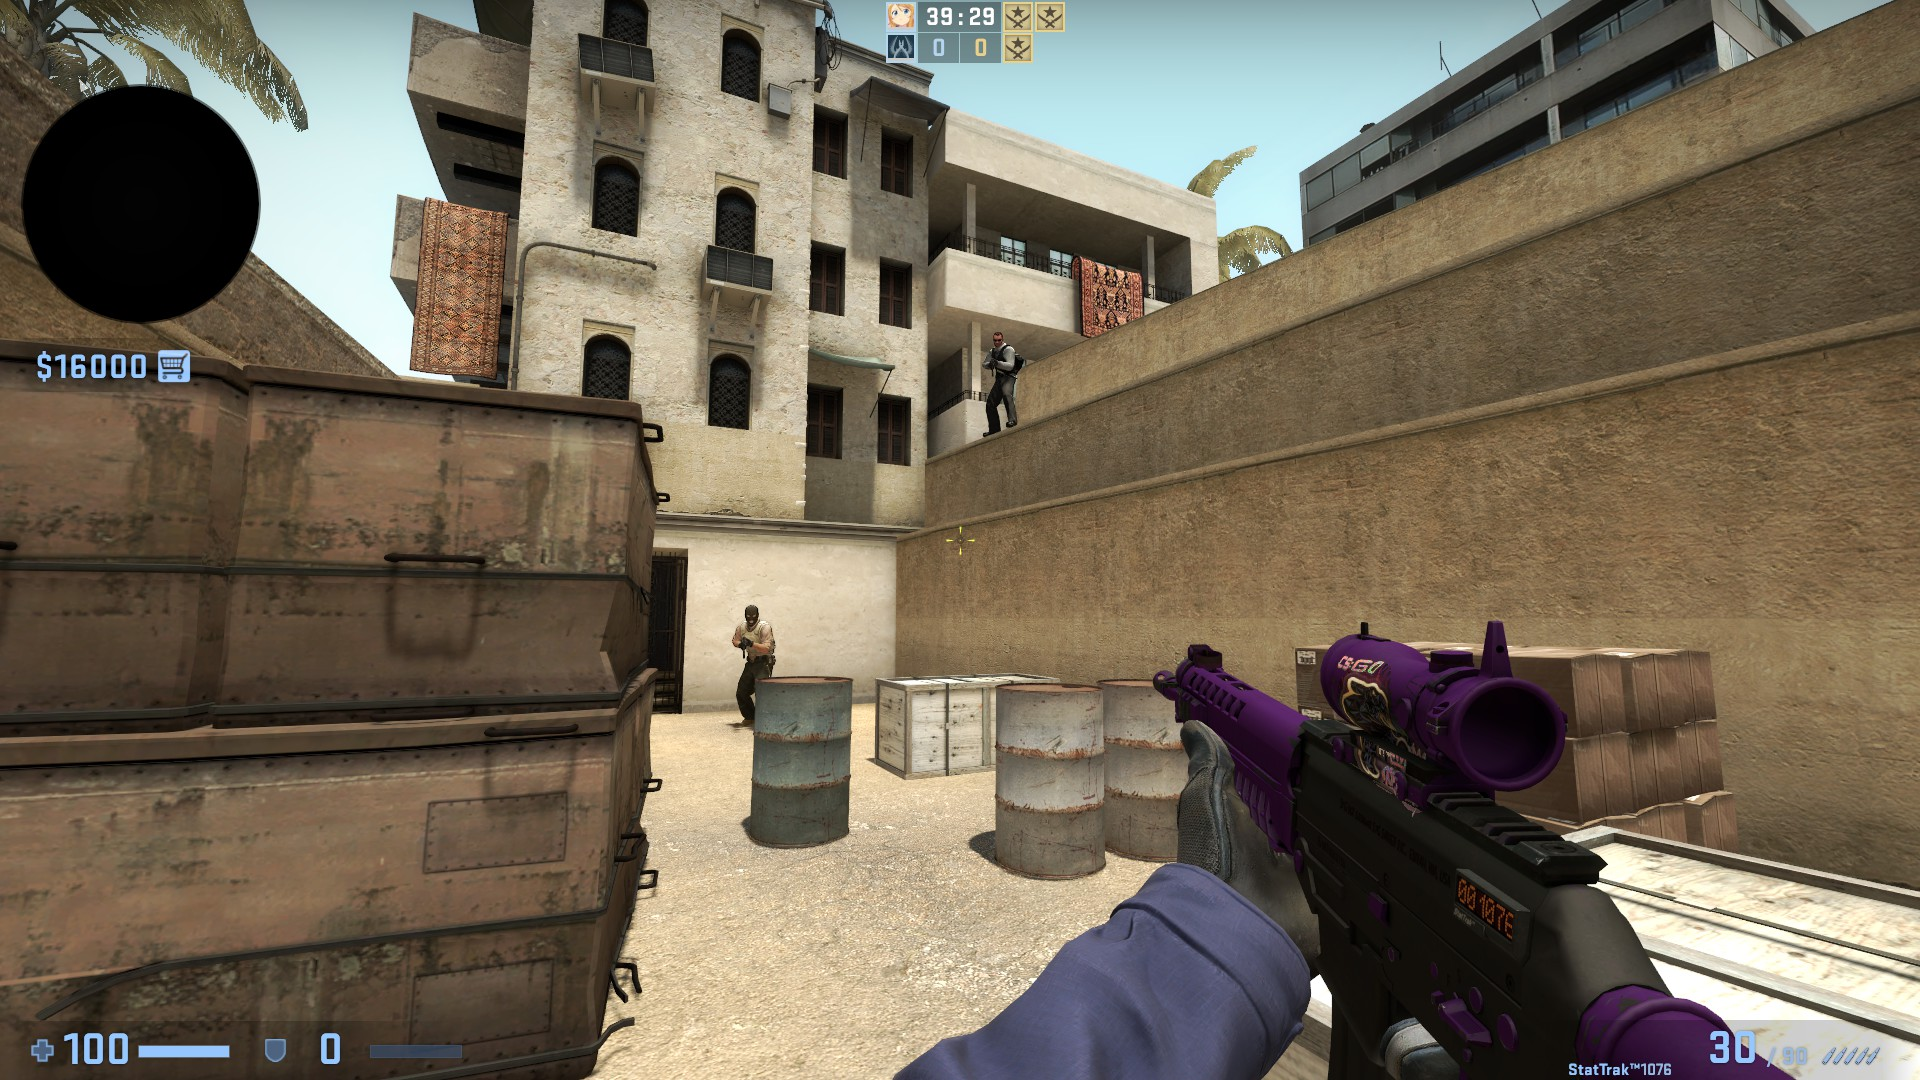head: (743, 604, 757, 628), (990, 331, 1003, 346)
